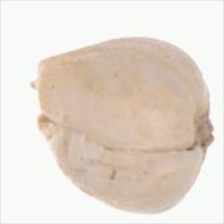L3: (30, 58, 45, 131)
L4: (31, 38, 210, 213)
